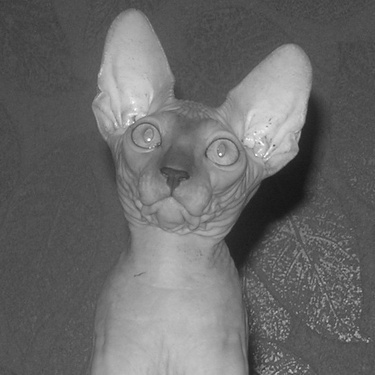cat: (85, 9, 313, 369)
